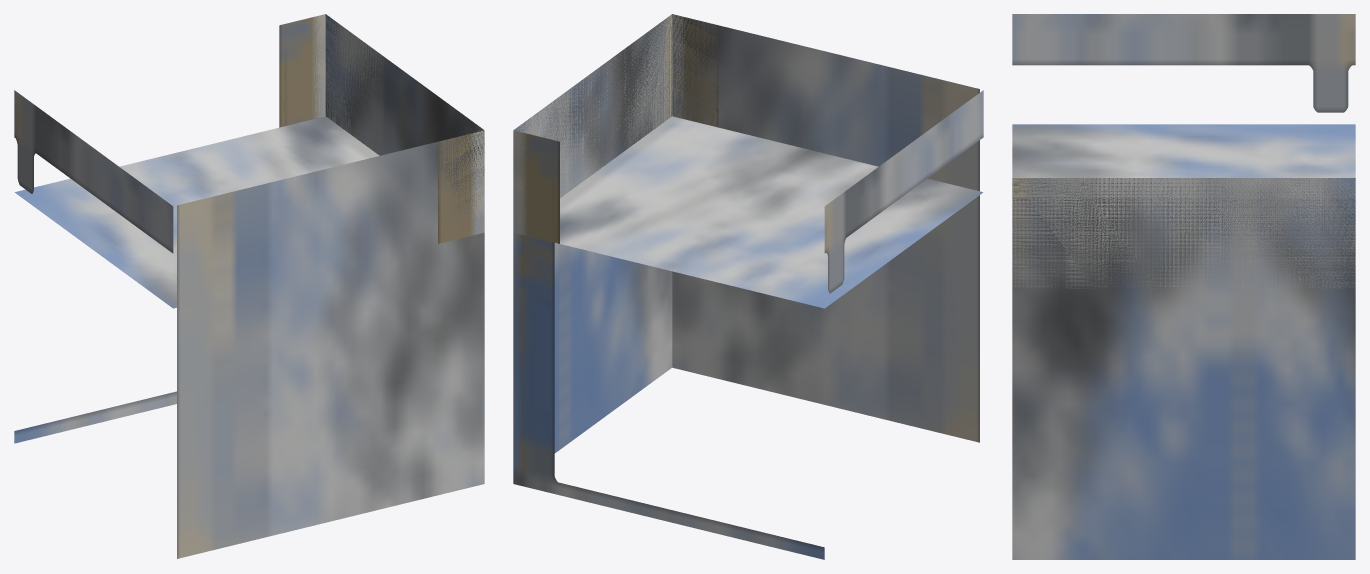
File: section-2.obj
The picture shows the model from 3 angles, left to right: view 1: azimuth 30°, elevation 25°; view 2: azimuth 150°, elevation 25°; view 3: azimuth 270°, elevation 25°; orthographic projection. The views are drawn at different scales.
Bounding box in the file's own units: 0.9215 × 1 × 0.8142.
